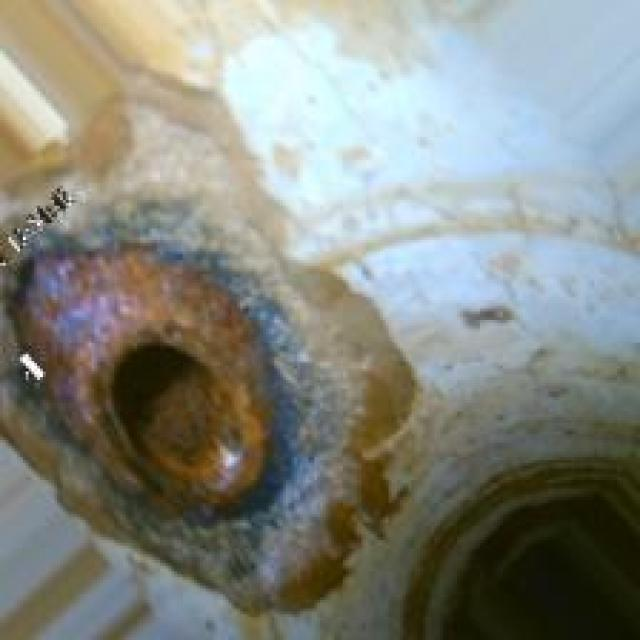ferrule: (43, 263, 340, 551)
